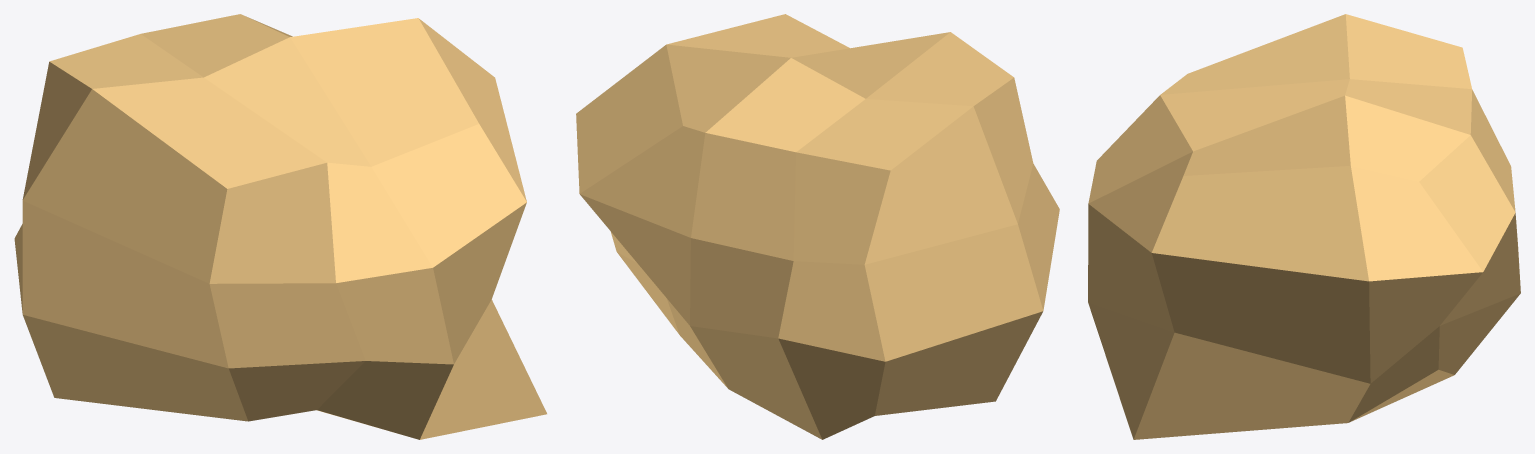
The model's file is lump-paper4Yel.fbx.
3 views of the same model, side by side, from view 1: azimuth 30°, elevation 25°; view 2: azimuth 150°, elevation 25°; view 3: azimuth 270°, elevation 25° (orthographic). The views are drawn at different scales.
Parts seen in each view (by area): view 1: Cube.002; view 2: Cube.002; view 3: Cube.002.
Boxes of the visible parts, x1,y1,x2,y2 form: Cube.002: (14,14,546,439); Cube.002: (576,14,1059,439); Cube.002: (1088,14,1520,439).
Size of the model in its own units: 25.33 by 16.92 by 22.01.
